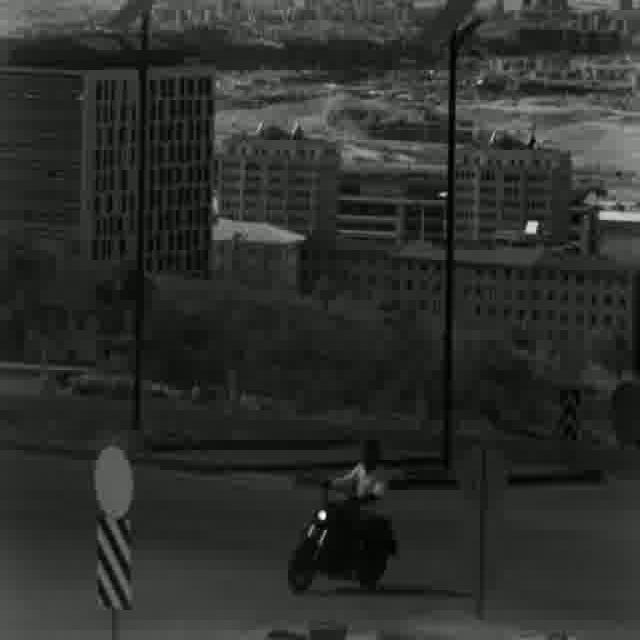Motorcycle: (280, 440, 402, 594)
